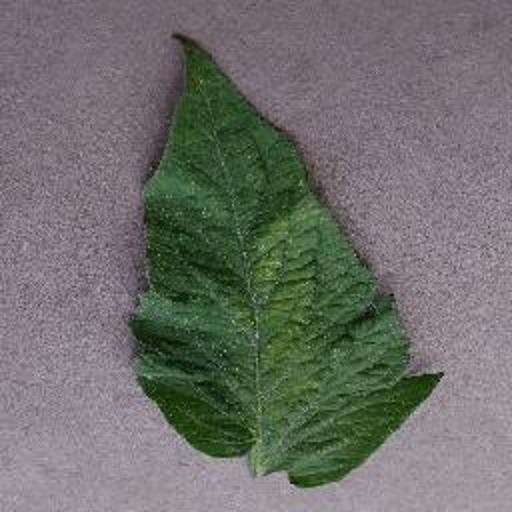Spider Mite: (109, 5, 448, 494)
